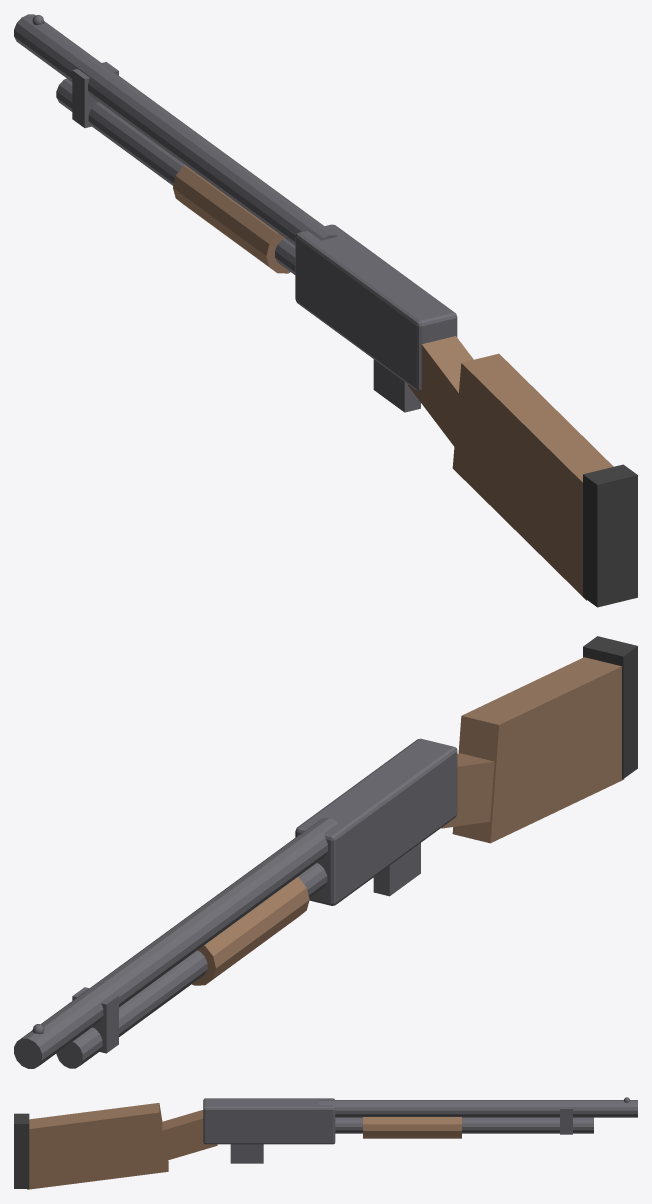
The model's file is Weapon_Shotgun_Pump.fbx.
3 views of the same model, one above another, from view 1: azimuth 30°, elevation 25°; view 2: azimuth 150°, elevation 25°; view 3: azimuth 270°, elevation 25° (orthographic). The views are drawn at different scales.
Visible parts, largest first — view 1: Weapon_Shotgun_Pump; view 2: Weapon_Shotgun_Pump; view 3: Weapon_Shotgun_Pump.
Part boxes in pixels (left/top/right/bottom): Weapon_Shotgun_Pump: left=14, top=14, right=637, bottom=607; Weapon_Shotgun_Pump: left=14, top=636, right=637, bottom=1068; Weapon_Shotgun_Pump: left=14, top=1097, right=637, bottom=1189.
Bounding box in the file's own units: 0.048 × 0.1755 × 1.13.
